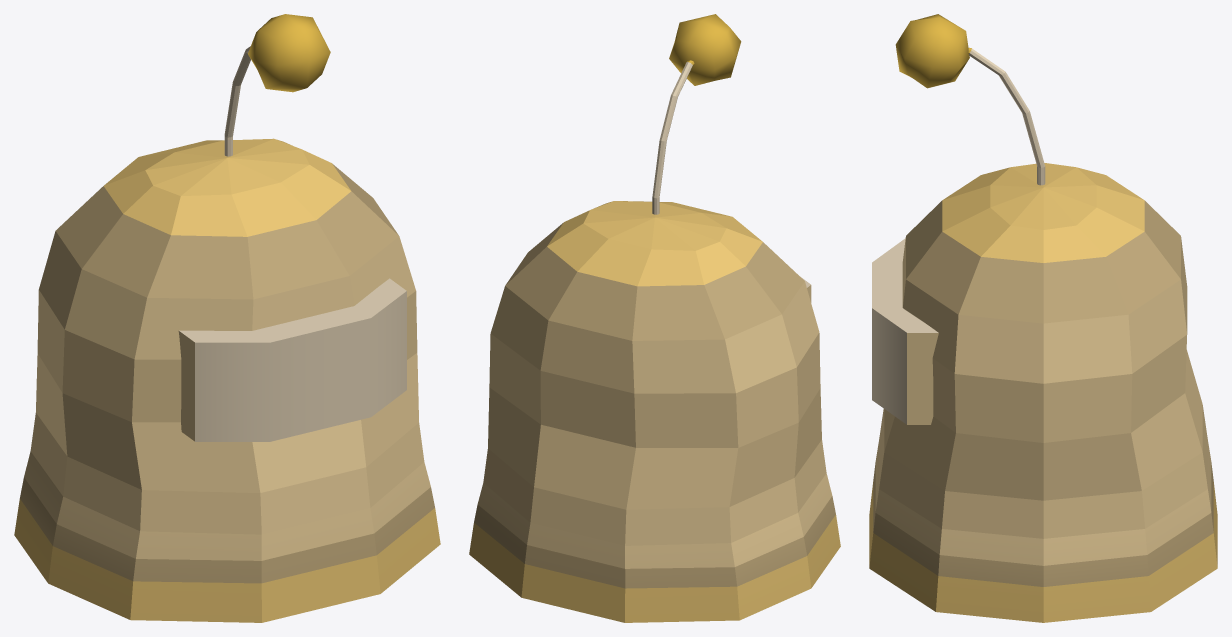
Rendered from fall.fbx.
The picture shows the model from 3 angles, left to right: view 1: azimuth 30°, elevation 25°; view 2: azimuth 150°, elevation 25°; view 3: azimuth 270°, elevation 25°; orthographic projection. The views are drawn at different scales.
Visible parts, largest first — view 1: pCube1; view 2: pCube1; view 3: pCube1.
Boxes of the visible parts, left/top/right/bottom form: pCube1: left=14, top=14, right=440, bottom=622; pCube1: left=469, top=14, right=840, bottom=622; pCube1: left=869, top=14, right=1217, bottom=622.
Bounding box in the file's own units: 3.78 × 5.76 × 3.43.
